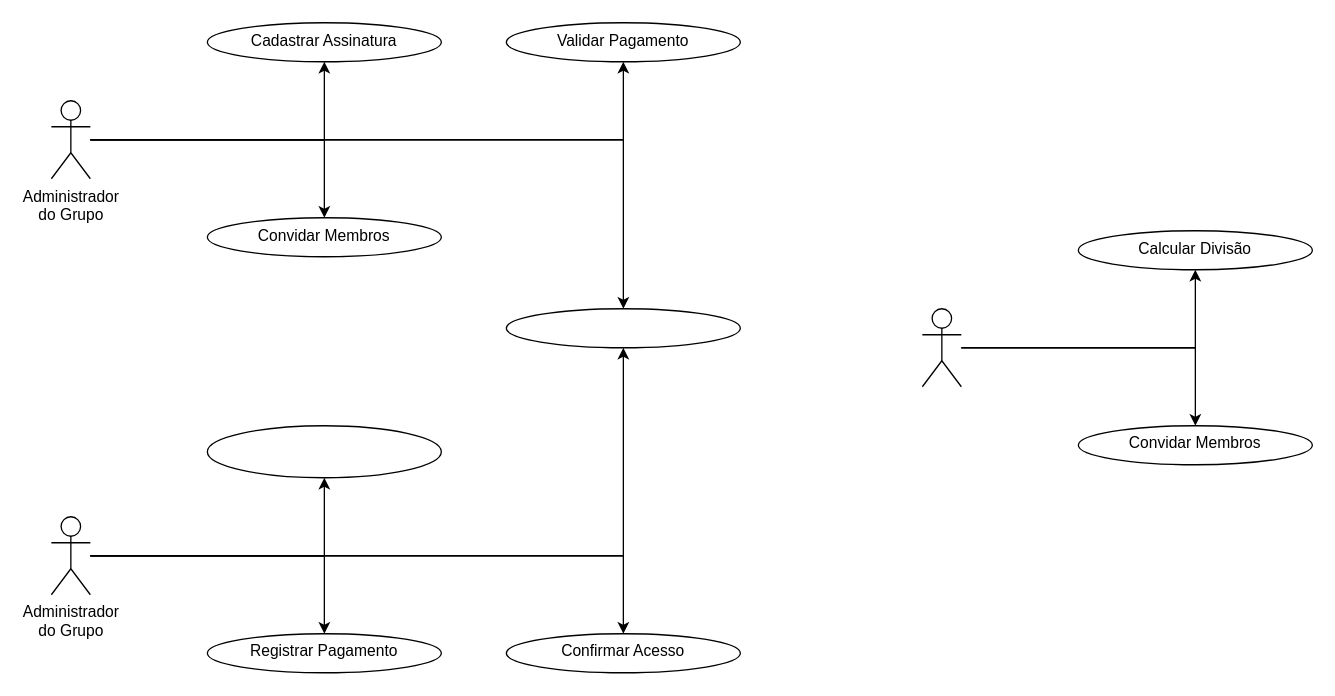
Image size: 1335x696. Some labels were removed from this diagram. Each missing label, with the box of its shape:
Confirmar Entrada no Grupo: (206, 424, 441, 478)
Registrar Incidente: (505, 307, 740, 348)
Sistema: (921, 307, 961, 387)
